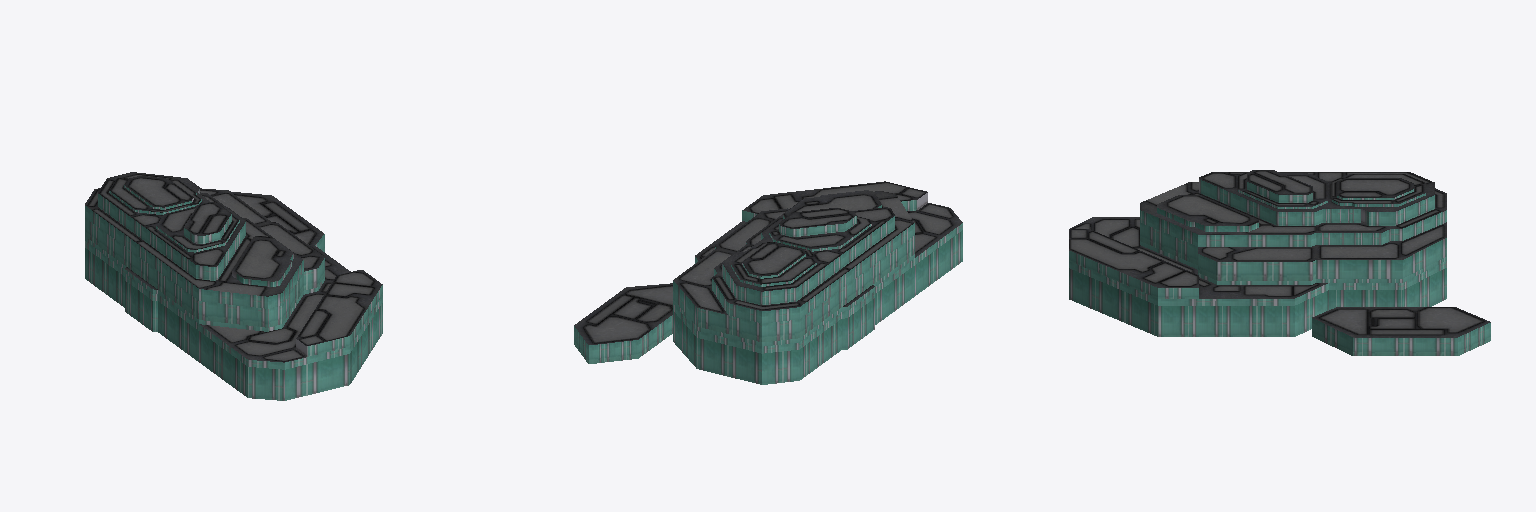
3 views of the same model, side by side, from view 1: azimuth 30°, elevation 25°; view 2: azimuth 150°, elevation 25°; view 3: azimuth 270°, elevation 25° (orthographic).
Visible parts, largest first — view 1: Plane; view 2: Plane; view 3: Plane.
Part boxes in pixels (bbox=[...]): Plane: bbox=[85, 172, 382, 400]; Plane: bbox=[574, 181, 962, 384]; Plane: bbox=[1069, 170, 1490, 355].
Bounding box in the file's own units: 359 × 160 × 624.
Materials: 1 (1 with a texture image).